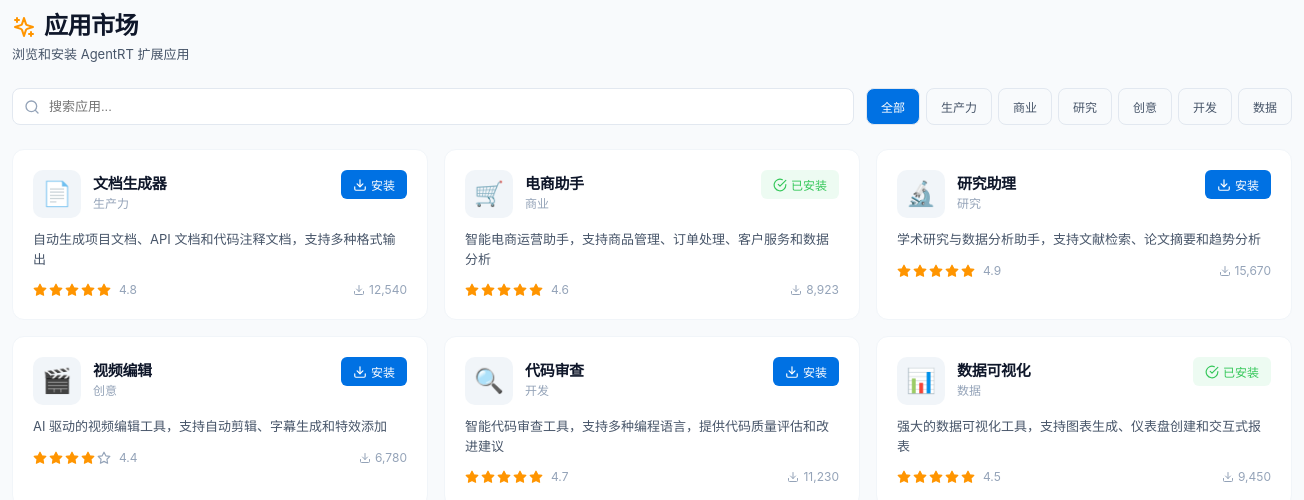
Test: OpenLab › filters by category
Click the button with aria-label "筛选分类: 开发" at [1205, 107], box [1178,88,1232,125]
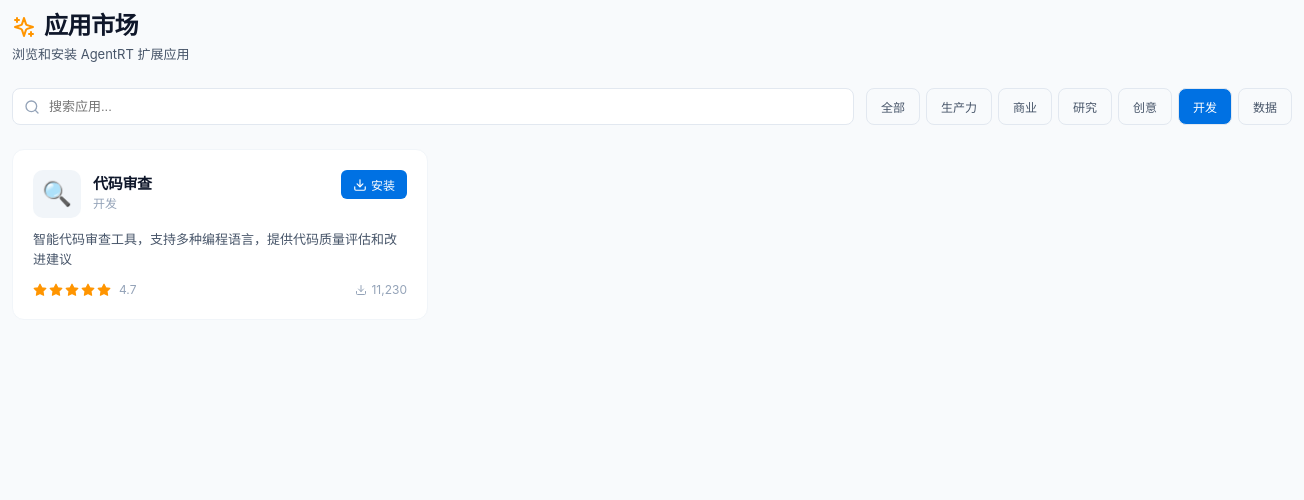
Expected: the heading "代码审查" is shown, [93,175,152,193]
Expected: the heading "文档生成器" is gone
